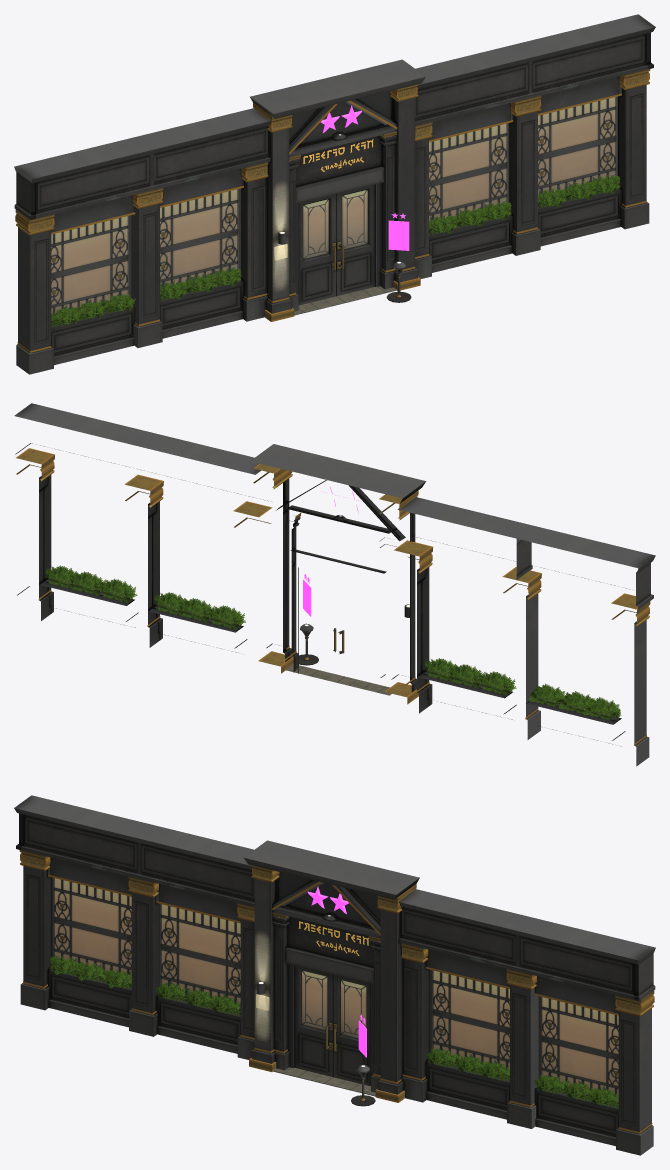
File: t1_b_restaurant_renew.glb
3 views of the same model, one above another, from view 1: azimuth 30°, elevation 25°; view 2: azimuth 150°, elevation 25°; view 3: azimuth 330°, elevation 25° (orthographic).
Parts seen in each view (by area): view 1: nomerge_t1_b_restaurant_renew_model_mesh, nomerge_t1_b_restaurant_renew_holo_model_mesh; view 2: nomerge_t1_b_restaurant_renew_model_mesh; view 3: nomerge_t1_b_restaurant_renew_model_mesh, nomerge_t1_b_restaurant_renew_holo_model_mesh.
Part boxes in pixels (x1,y1,x2,y2): nomerge_t1_b_restaurant_renew_model_mesh: (14,14,655,374); nomerge_t1_b_restaurant_renew_holo_model_mesh: (320,105,409,250); nomerge_t1_b_restaurant_renew_model_mesh: (14,403,655,766); nomerge_t1_b_restaurant_renew_model_mesh: (14,795,655,1155); nomerge_t1_b_restaurant_renew_holo_model_mesh: (307,886,366,1057).
Bounding box in the file's own units: 14.26 × 4.61 × 1.32.
4 materials, 3 textured.
